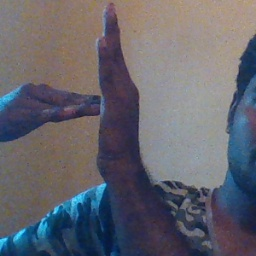Z: (37, 4, 152, 172)
